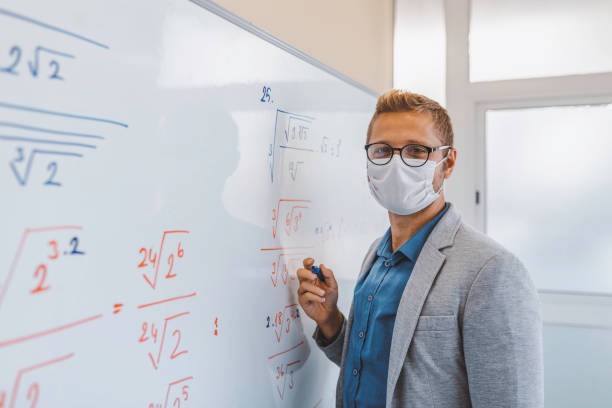with mask: (363, 103, 458, 219)
